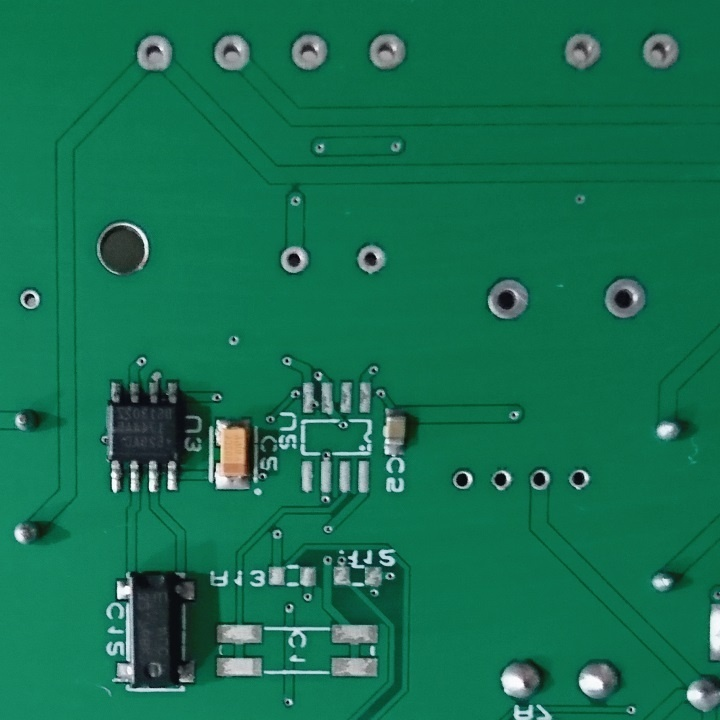F: (484, 272, 533, 323), (363, 26, 410, 74), (131, 30, 178, 77), (602, 273, 650, 319), (557, 29, 604, 75), (212, 31, 253, 80), (287, 32, 329, 72), (641, 32, 682, 72), (354, 241, 389, 279), (279, 243, 312, 278), (528, 464, 552, 494), (564, 466, 590, 492), (450, 467, 475, 494), (19, 286, 42, 313), (490, 468, 512, 495)
